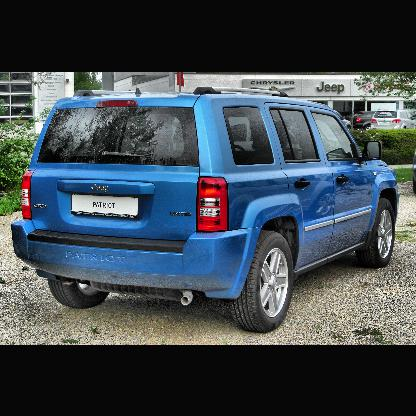Jeep Patriot SUV 2012: (10, 85, 401, 336)
